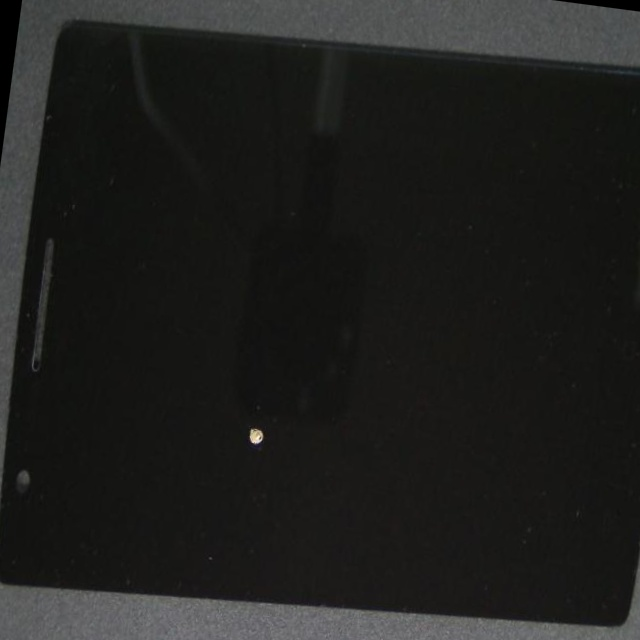stain: (93, 129, 411, 640)
